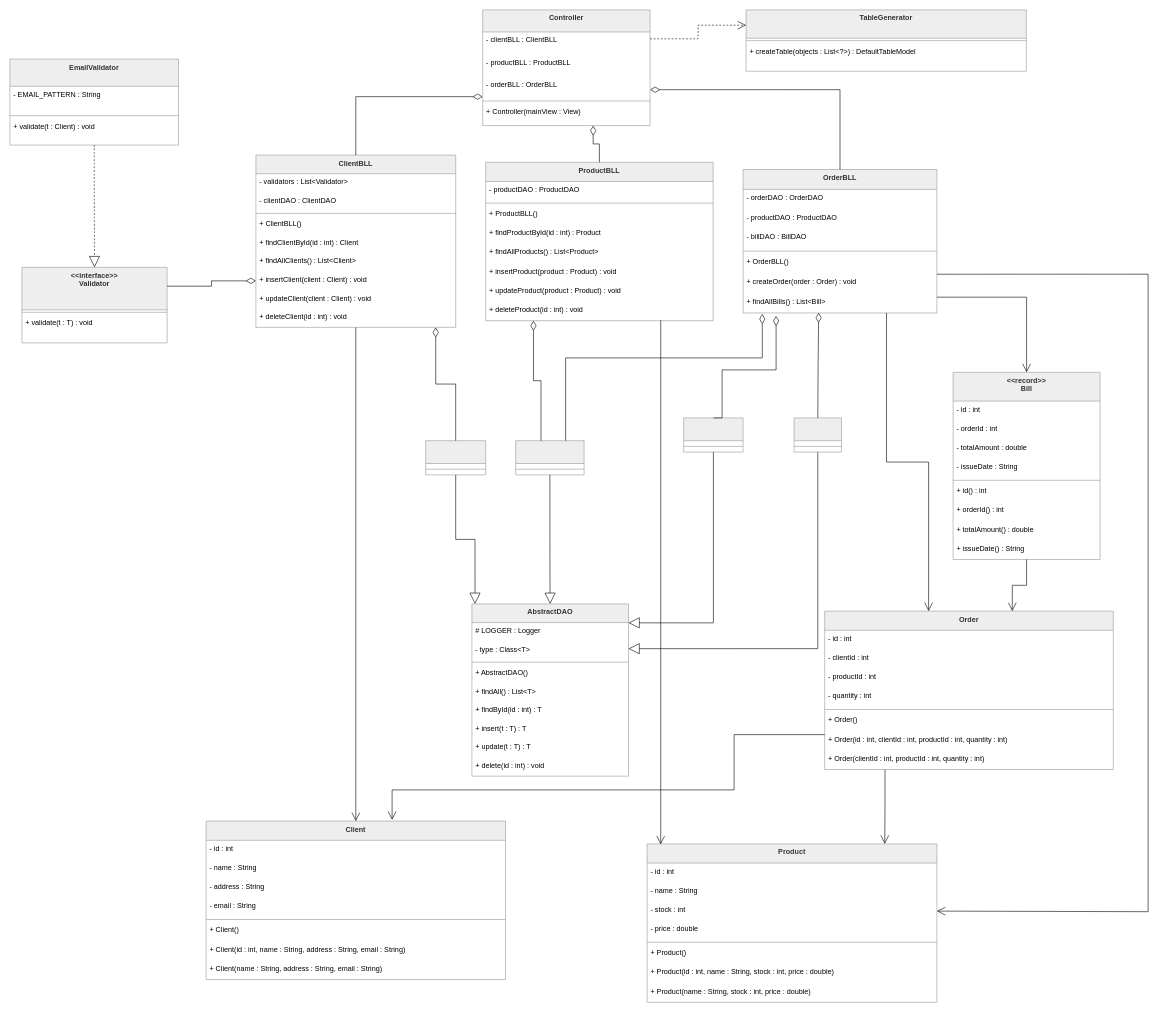
This 1158x1012 diagram has some shape labels left out. The shapes that lost their labels are listed below. From the top down, each one's centre as x and y in pixels, then its label:
At point 713,434: "OrderDAO".
At point 818,434: "BillDAO".
At point 455,457: "ClientDAO".
At point 549,457: "ProductDAO".
